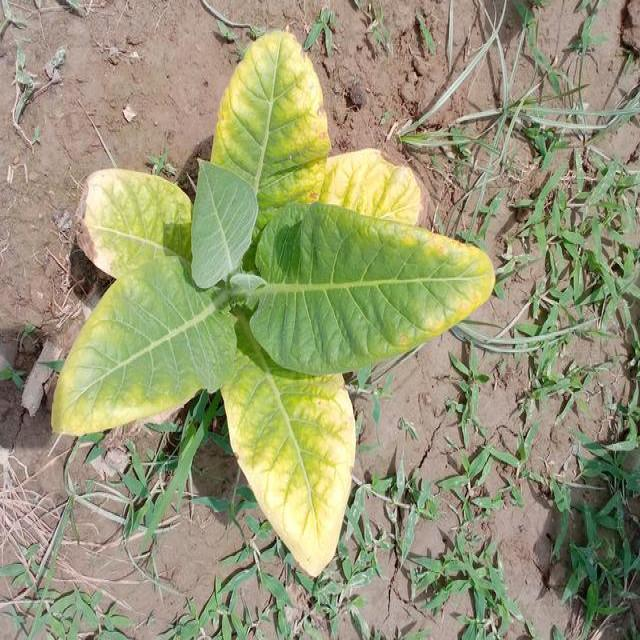crop: (57, 42, 486, 588)
